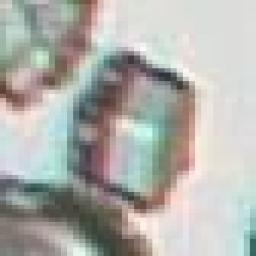crystals: (69, 51, 197, 214)
